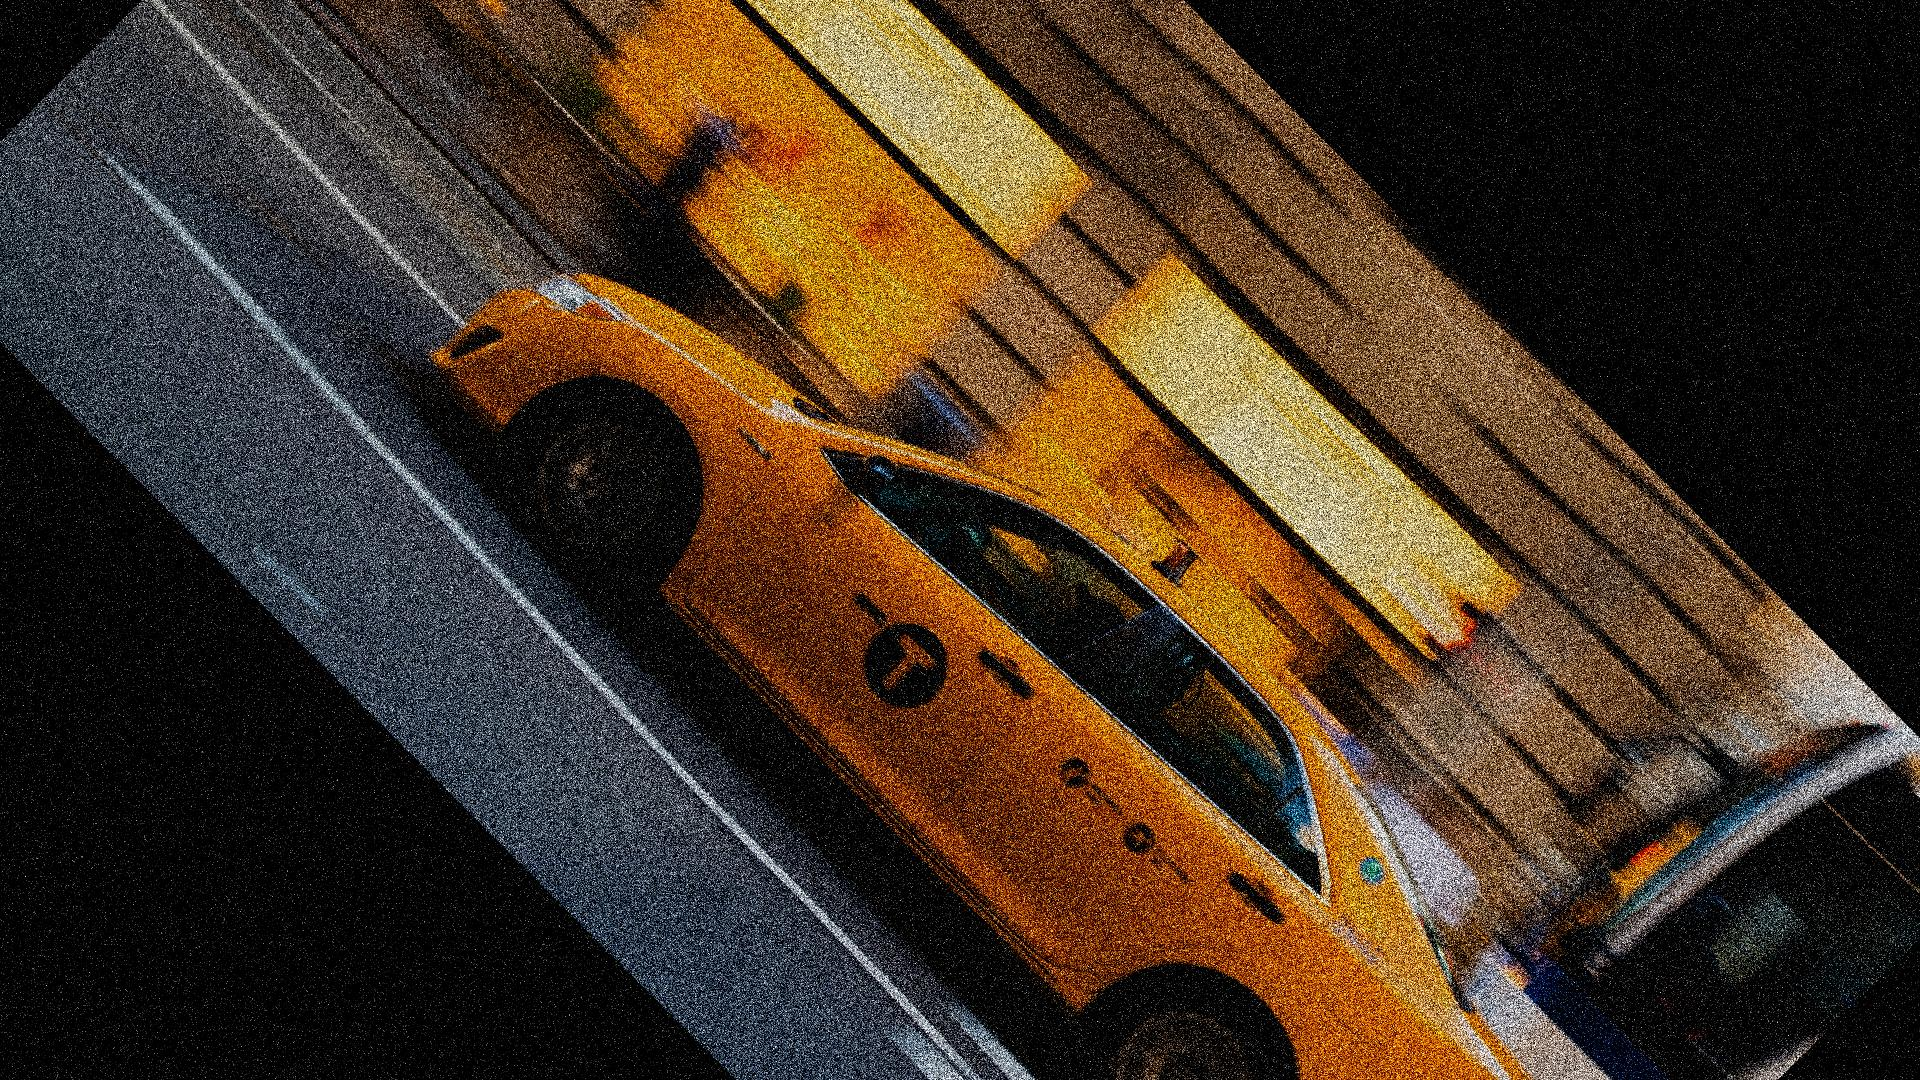taxi: (400, 247, 1547, 1080)
